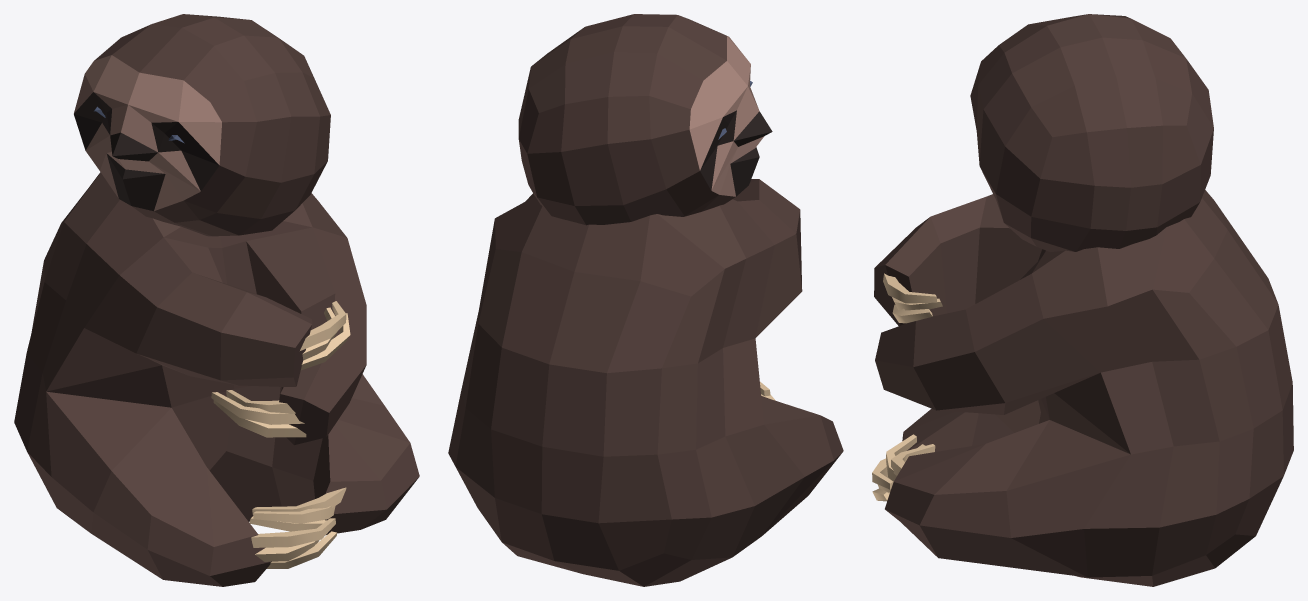
Rendered from Sloth01.fbx.
3 renders of one model, left to right at view 1: azimuth 30°, elevation 25°; view 2: azimuth 150°, elevation 25°; view 3: azimuth 270°, elevation 25°, orthographic. The views are drawn at different scales.
Visible parts, largest first — view 1: Sloth01; view 2: Sloth01; view 3: Sloth01.
Part boxes in pixels (x1,y1,x2,y2): Sloth01: (14,14,419,586); Sloth01: (448,14,843,586); Sloth01: (872,14,1293,586).
Size of the model in its own units: 12.01 by 18.74 by 13.61.
